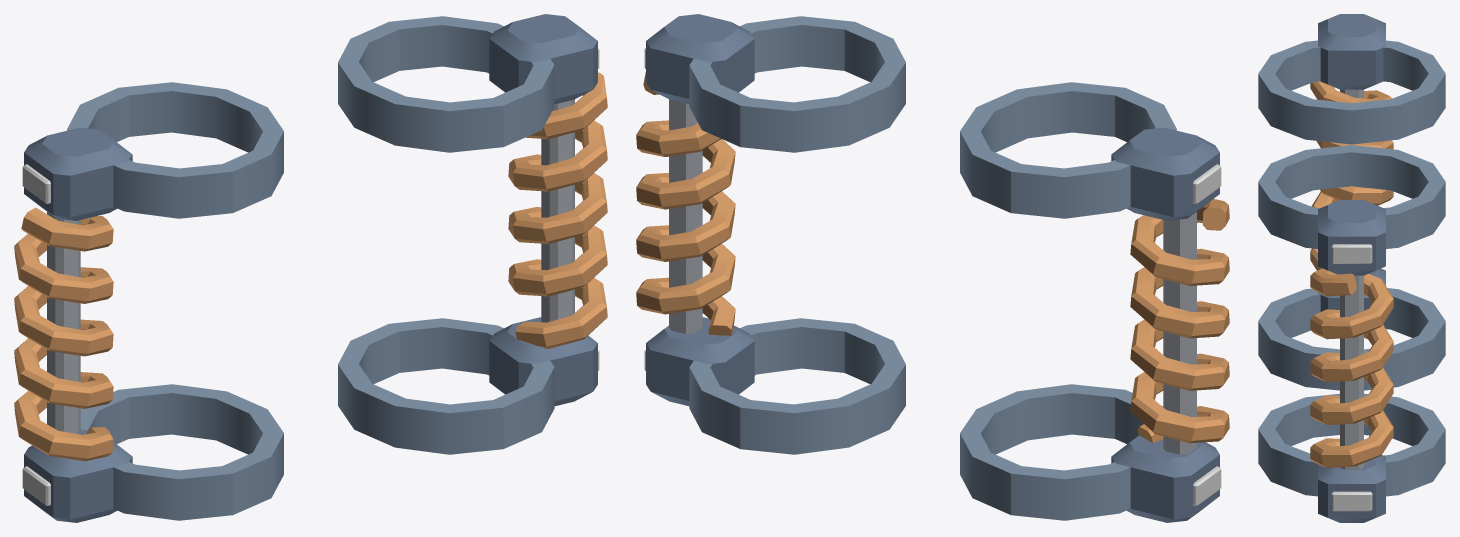
The model's file is gear_amortisseurs.glb.
3 renders of one model, left to right at view 1: azimuth 30°, elevation 25°; view 2: azimuth 150°, elevation 25°; view 3: azimuth 270°, elevation 25°, orthographic. The views are drawn at different scales.
Visible parts, largest first — view 1: shin_l__amortisseurs, shin_r__amortisseurs, shin_r__amortisseurs_glow; view 2: shin_l__amortisseurs, shin_r__amortisseurs, shin_r__amortisseurs_glow; view 3: shin_l__amortisseurs, shin_r__amortisseurs, shin_l__amortisseurs_glow.
Boxes of the visible parts, left/top/right/bottom form: shin_l__amortisseurs: left=338, top=14, right=607, bottom=454; shin_r__amortisseurs: left=14, top=82, right=283, bottom=522; shin_r__amortisseurs_glow: left=22, top=164, right=50, bottom=505; shin_l__amortisseurs: left=636, top=14, right=905, bottom=454; shin_r__amortisseurs: left=960, top=82, right=1229, bottom=522; shin_r__amortisseurs_glow: left=1193, top=164, right=1221, bottom=505; shin_l__amortisseurs: left=1258, top=145, right=1445, bottom=522; shin_r__amortisseurs: left=1258, top=14, right=1445, bottom=390; shin_l__amortisseurs_glow: left=1331, top=244, right=1372, bottom=511.
Bounding box in the file's own units: 0.323 × 0.194 × 0.11.
